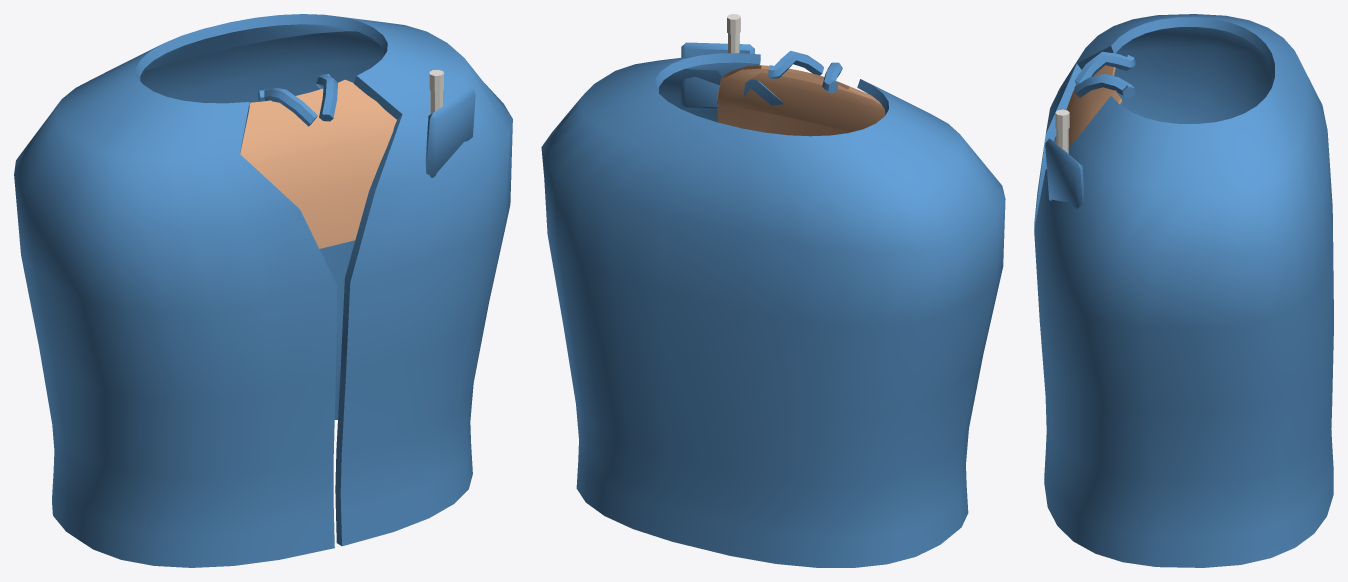
The model's file is Char_Top_Scrubs.fbx.
3 renders of one model, left to right at view 1: azimuth 30°, elevation 25°; view 2: azimuth 150°, elevation 25°; view 3: azimuth 270°, elevation 25°, orthographic. The views are drawn at different scales.
Visible parts, largest first — view 1: Scrubs, Neck; view 2: Scrubs, Neck; view 3: Scrubs, Neck, Pen.
Part boxes in pixels (x1=…): Scrubs: x1=14, y1=14, x2=512, y2=567; Neck: x1=240, y1=79, x2=396, y2=248; Scrubs: x1=541, y1=42, x2=1005, y2=567; Neck: x1=716, y1=65, x2=885, y2=136; Scrubs: x1=1034, y1=14, x2=1333, y2=567; Neck: x1=1055, y1=65, x2=1121, y2=146; Pen: x1=1055, y1=109, x2=1069, y2=153.
Bounding box in the file's own units: 176 × 166 × 107.
